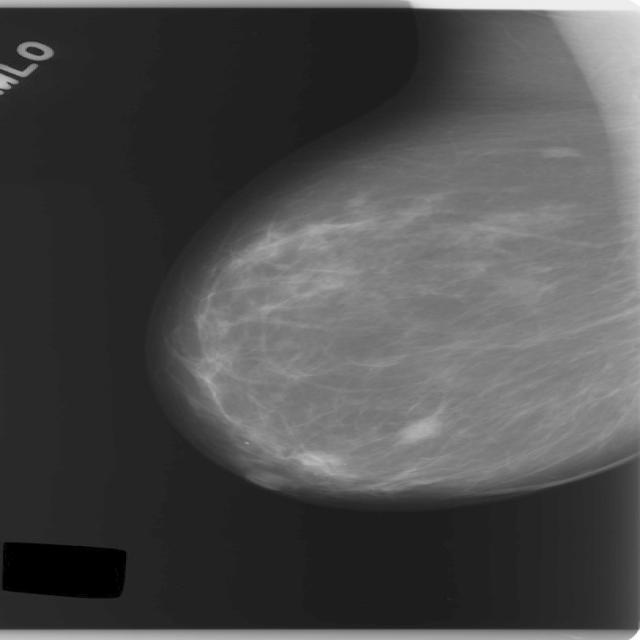tumour: (397, 414, 443, 442)
